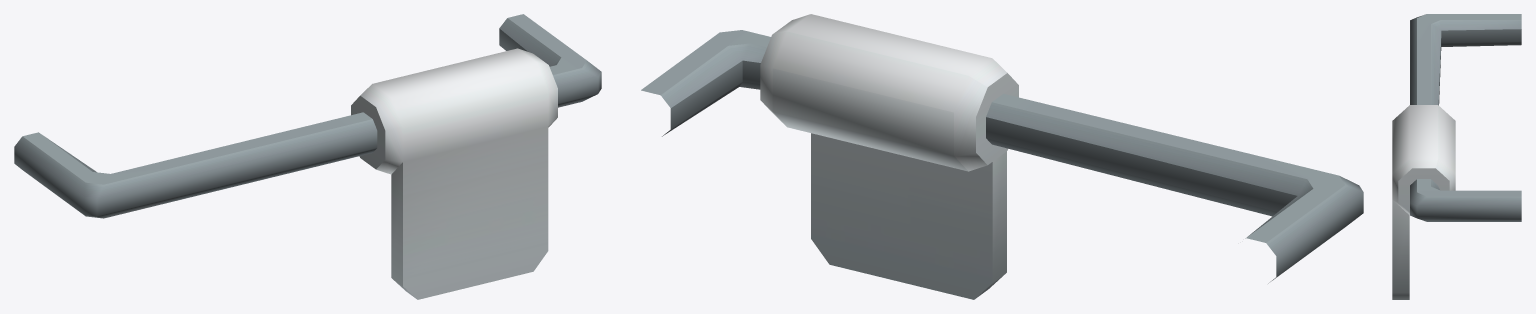
File: kaykit-restaurant-bits-towelrail.glb
3 renders of one model, left to right at view 1: azimuth 30°, elevation 25°; view 2: azimuth 150°, elevation 25°; view 3: azimuth 270°, elevation 25°, orthographic. The views are drawn at different scales.
Parts seen in each view (by area): view 1: towelrail; view 2: towelrail; view 3: towelrail.
Part boxes in pixels (left/top/right/bottom): towelrail: left=14, top=14, right=601, bottom=299; towelrail: left=641, top=14, right=1363, bottom=299; towelrail: left=1392, top=14, right=1521, bottom=299.
Size of the model in its own units: 1.6 by 0.5829 by 0.4633.
Materials: 1 (1 with a texture image).
